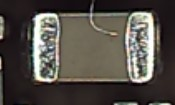COMP: (17, 10, 167, 89)
STAN: (87, 1, 122, 39), (92, 20, 117, 36), (89, 3, 98, 31)
